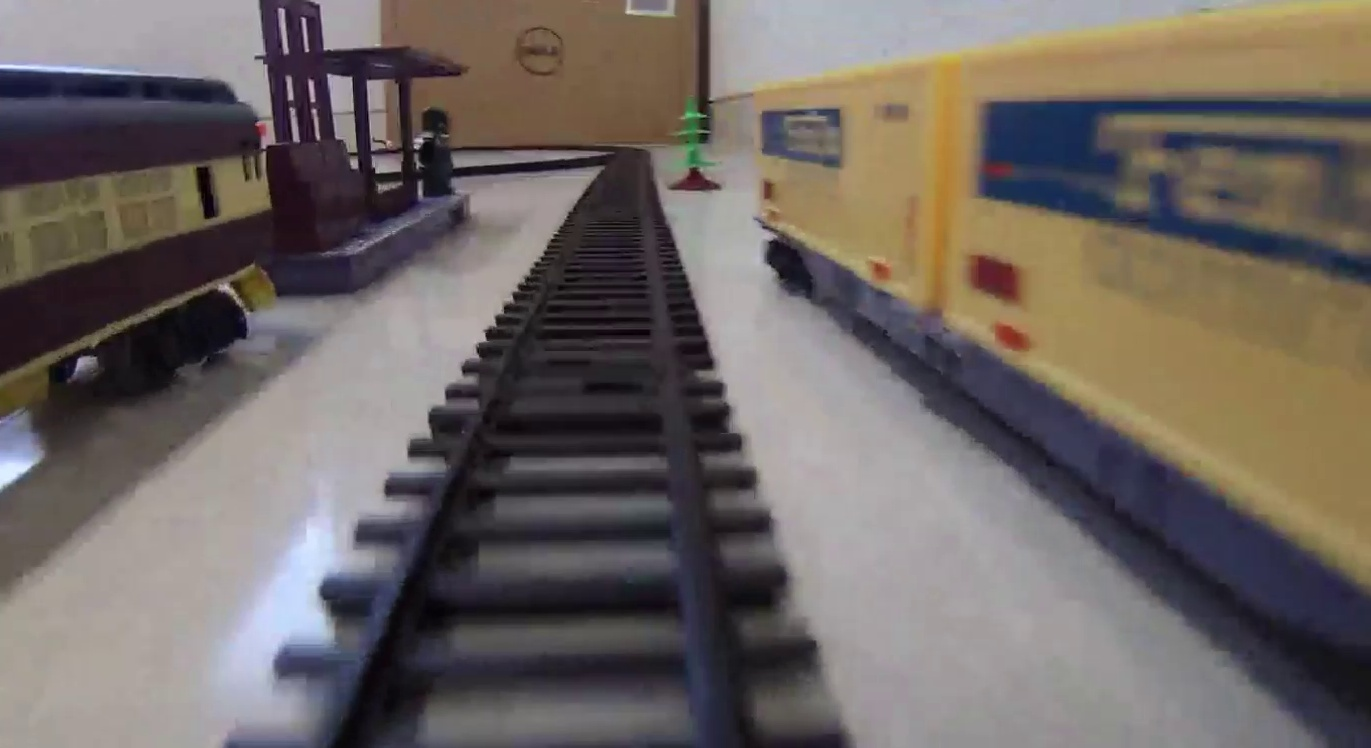people: (419, 106, 457, 199)
tree: (666, 96, 722, 192)
